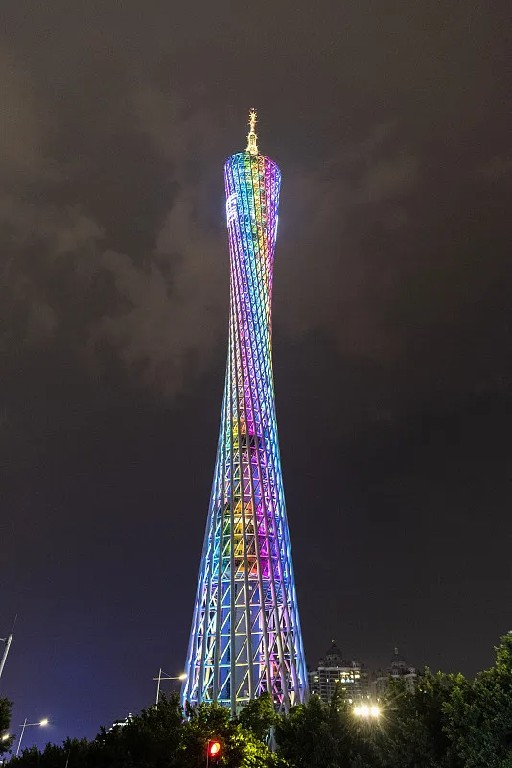Canton: (178, 104, 314, 710)
